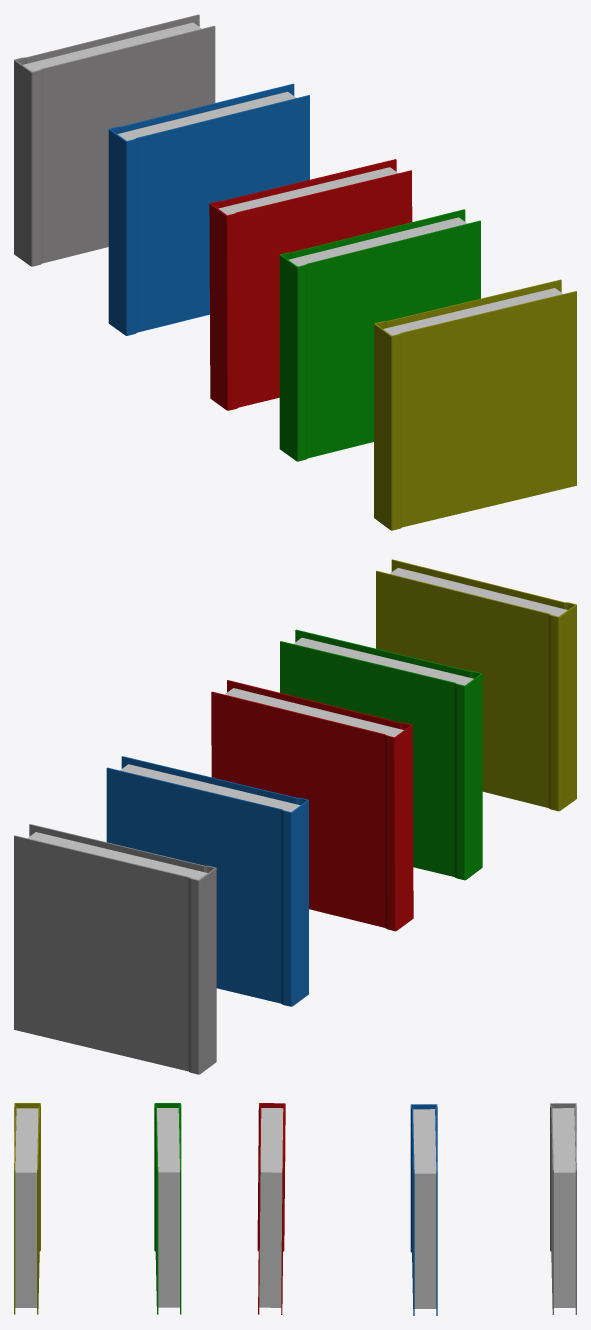
The model's file is Livros.fbx.
The picture shows the model from 3 angles, top to bottom: view 1: azimuth 30°, elevation 25°; view 2: azimuth 150°, elevation 25°; view 3: azimuth 270°, elevation 25°; orthographic projection. The views are drawn at different scales.
Parts seen in each view (by area): view 1: Livro pra derrubar, Livros na mesa (Entrada).003, Livros na mesa (Entrada).001, Livros na mesa (Entrada), Livros na mesa (Entrada).002; view 2: Livros na mesa (Entrada), Livros na mesa (Entrada).002, Livro pra derrubar, Livros na mesa (Entrada).003, Livros na mesa (Entrada).001; view 3: Livros na mesa (Entrada).001, Livros na mesa (Entrada).003, Livros na mesa (Entrada).002, Livros na mesa (Entrada), Livro pra derrubar.
Boxes of the visible parts, x1,y1,x2,y2 form: Livro pra derrubar: [374, 279, 576, 530]; Livros na mesa (Entrada).003: [108, 83, 309, 335]; Livros na mesa (Entrada).001: [279, 209, 480, 461]; Livros na mesa (Entrada): [14, 14, 215, 266]; Livros na mesa (Entrada).002: [209, 159, 412, 410]; Livros na mesa (Entrada): [14, 824, 216, 1074]; Livros na mesa (Entrada).002: [211, 680, 413, 931]; Livro pra derrubar: [376, 559, 576, 811]; Livros na mesa (Entrada).003: [106, 756, 308, 1006]; Livros na mesa (Entrada).001: [280, 629, 482, 880]; Livros na mesa (Entrada).001: [154, 1103, 181, 1314]; Livros na mesa (Entrada).003: [410, 1104, 437, 1315]; Livros na mesa (Entrada).002: [257, 1103, 285, 1314]; Livros na mesa (Entrada): [550, 1103, 576, 1314]; Livro pra derrubar: [14, 1103, 40, 1314].
Bounding box in the file's own units: 244 × 242 × 853.
